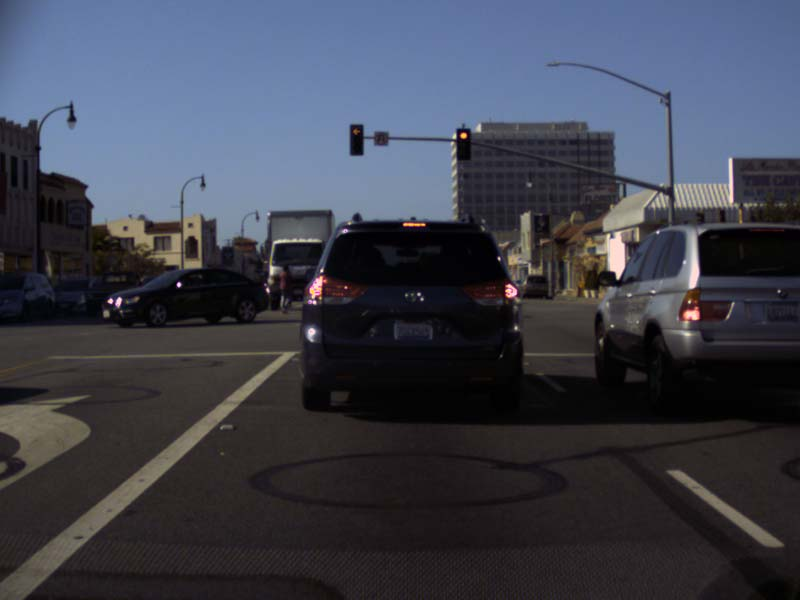Red: (456, 128, 470, 160), (349, 124, 363, 155)
